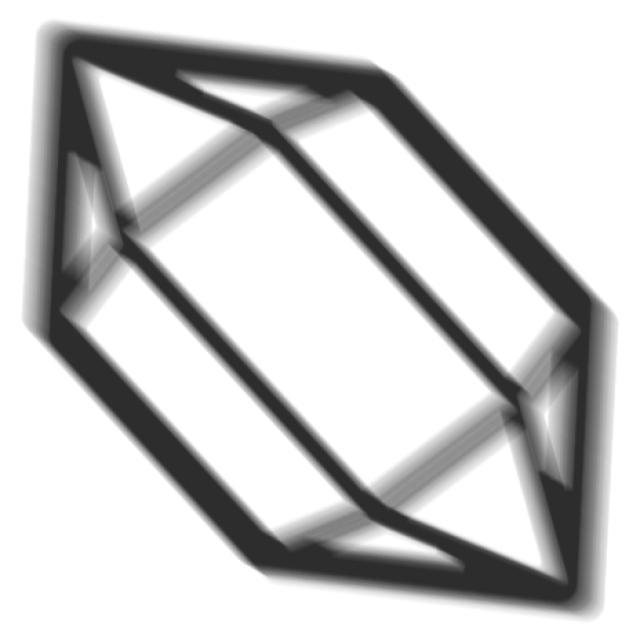crystal: (12, 21, 626, 621)
